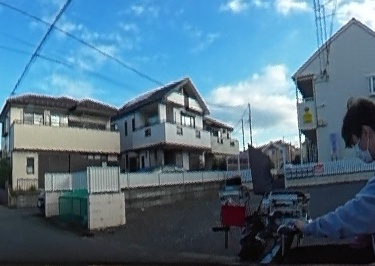person: (274, 95, 375, 266)
